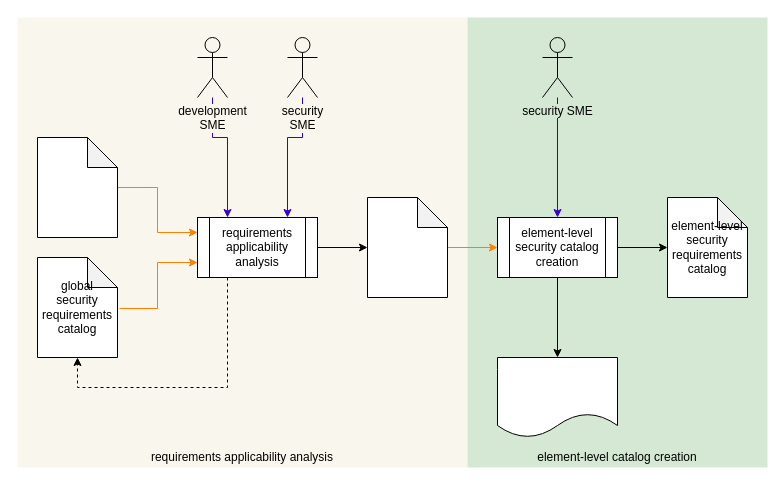
The diagram is 784 pixels wide and 484 high, and some of its shapes have lost their labels. The shapes that lost their labels are listed below. From the top down, each one's centre as x and y in pixels, then its label:
At pixel 77 187: "element functional requirements".
At pixel 407 247: "list of applicable requirements".
At pixel 557 397: "requirements report".
